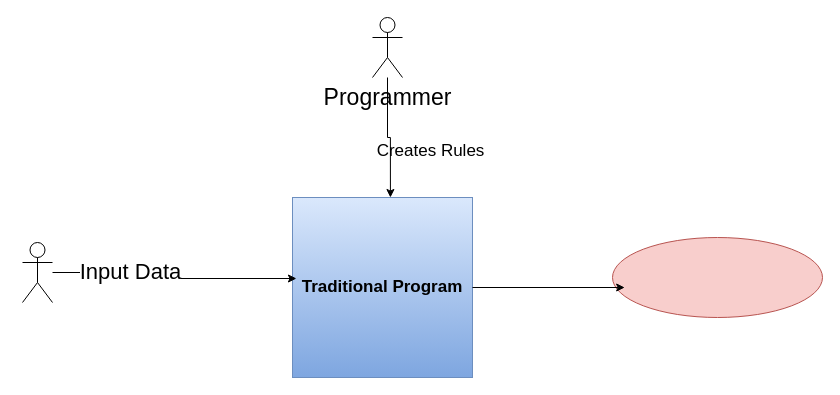
This 840x395 diagram has some shape labels left out. The box of each missing label's shape, as (x1, y1, x2, y2) in pixels:
Answers/Results: (612, 236, 822, 318)
User: (22, 242, 52, 302)
